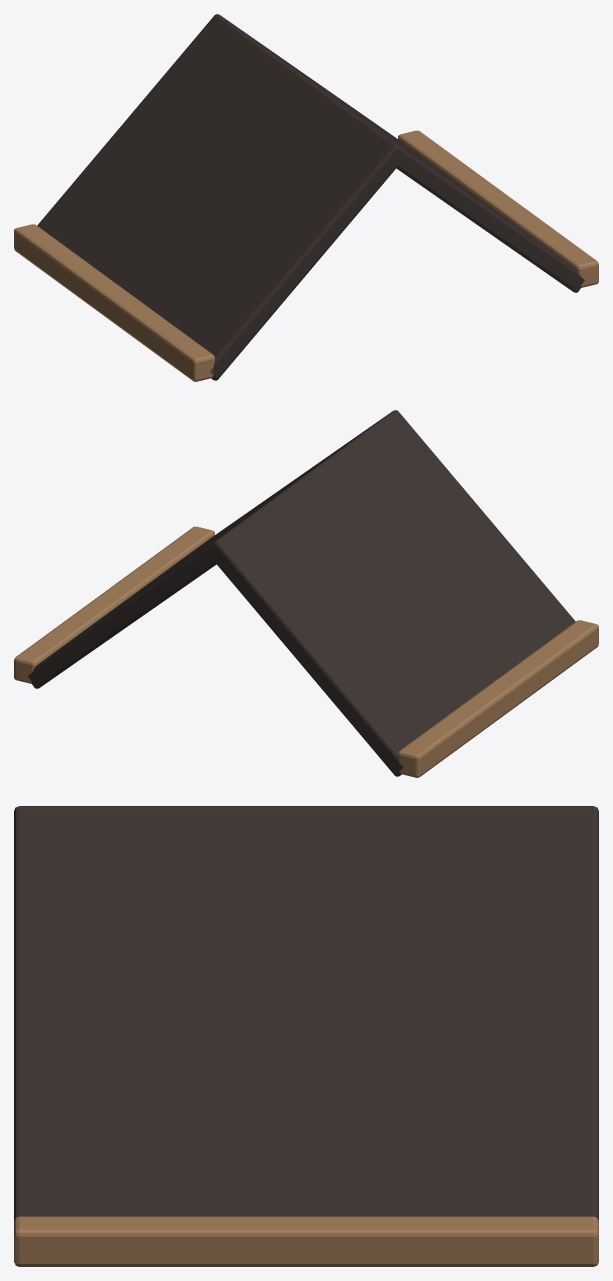
File: roof_gable_2x2m__structure.glb
3 renders of one model, top to bottom at view 1: azimuth 30°, elevation 25°; view 2: azimuth 150°, elevation 25°; view 3: azimuth 270°, elevation 25°, orthographic. The views are drawn at different scales.
Parts seen in each view (by area): view 1: roof_gable_2x2m__structure__mesh_00; view 2: roof_gable_2x2m__structure__mesh_00; view 3: roof_gable_2x2m__structure__mesh_00.
Boxes of the visible parts, <box> form: roof_gable_2x2m__structure__mesh_00: <box>14,14,598,381</box>; roof_gable_2x2m__structure__mesh_00: <box>14,410,598,777</box>; roof_gable_2x2m__structure__mesh_00: <box>14,806,598,1266</box>.
Size of the model in its own units: 2.58 by 1.16 by 2.
